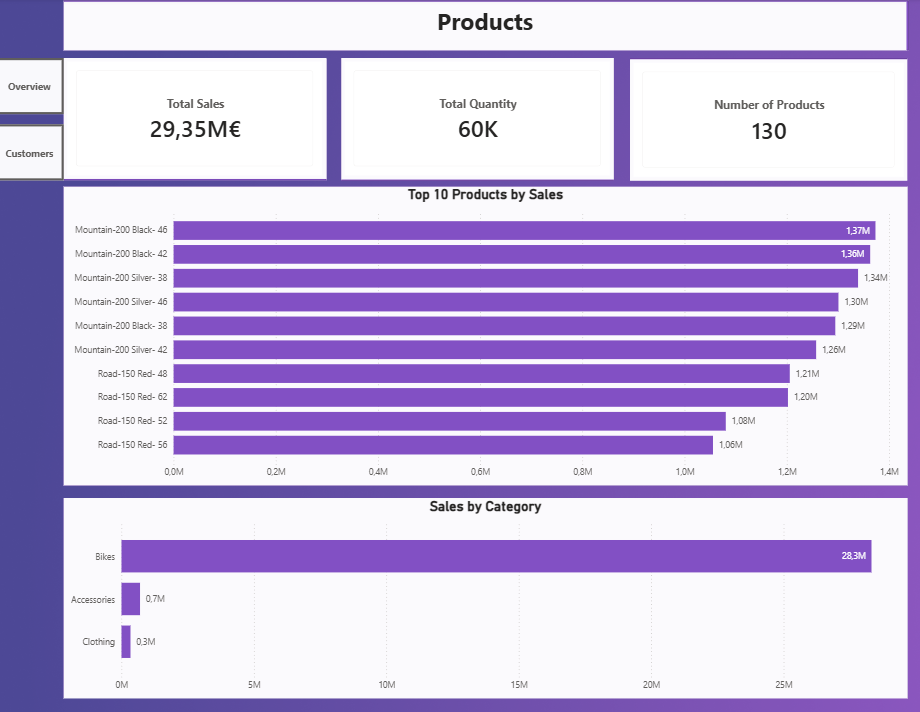

What the dashboard file says about the page in this screenshot:
{"tool":"powerbi","page":{"name":"Products","canvas":[1280,1000],"ordinal":1},"visuals":[{"type":"shape","box":[95,84.7,362.8,167.6],"z":0},{"type":"shape","box":[877,82.1,383.1,167.9],"z":1000},{"type":"shape","box":[478.9,84.6,376.9,167.9],"z":2000},{"type":"shape","box":[95,3.5,1167.9,69.1],"z":3000},{"type":"cardVisual","fields":{"Data":["Measures Table.Total quantity"]},"box":[580.9,274.9,277.4,167.9],"z":4000},{"type":"shape","box":[95,260.9,1166.2,412.9],"z":6000},{"type":"textbox","box":[95,5.2,1164.5,67.4],"z":7000},{"type":"cardVisual","fields":{"Data":["Measures Table.Total sales"]},"box":[95,82.9,362.8,167.6],"z":8000},{"type":"cardVisual","fields":{"Data":["Measures Table.Total quantity"]},"box":[478.9,82.1,376.9,167.9],"z":9000},{"type":"cardVisual","fields":{"Data":["Measures Table.Number Of Products"]},"box":[877,84.6,383.1,167.9],"z":10000},{"type":"clusteredBarChart","title":"Top 10 Products by Sales","fields":{"Y":["Sum(vw_product_sales_performance.total_sales_that_product)"],"Category":["vw_product_sales_performance.product_name"]},"box":[95,260.9,1166.2,412.9],"z":11000},{"type":"shape","box":[95,691.1,1166.2,276.4],"z":12000},{"type":"clusteredBarChart","title":"Sales by Category","fields":{"Category":["vw_product_category_performance.category"],"Y":["Sum(vw_product_category_performance.total_sales_that_product)"]},"box":[95,691.1,1166.2,276.4],"z":13000},{"type":"actionButton","box":[0,82.9,95,77.7],"z":13001},{"type":"actionButton","box":[0,174.5,95,77.7],"z":13002}]}

Visuals, with their boxes in screenshot pixels (x1, y1, x2, y2):
shape: 60, 54, 323, 176
shape: 628, 53, 907, 175
shape: 339, 54, 613, 177
shape: 60, 0, 909, 46
cardVisual - Measures Table.Total quantity: 413, 193, 615, 315
shape: 60, 183, 908, 483
textbox: 60, 0, 907, 46
cardVisual - Measures Table.Total sales: 60, 53, 323, 175
cardVisual - Measures Table.Total quantity: 339, 53, 613, 175
cardVisual - Measures Table.Number Of Products: 628, 54, 907, 177
"Top 10 Products by Sales" clusteredBarChart: 60, 183, 908, 483
shape: 60, 496, 908, 697
"Sales by Category" clusteredBarChart: 60, 496, 908, 697
actionButton: 0, 53, 60, 110
actionButton: 0, 120, 60, 176
